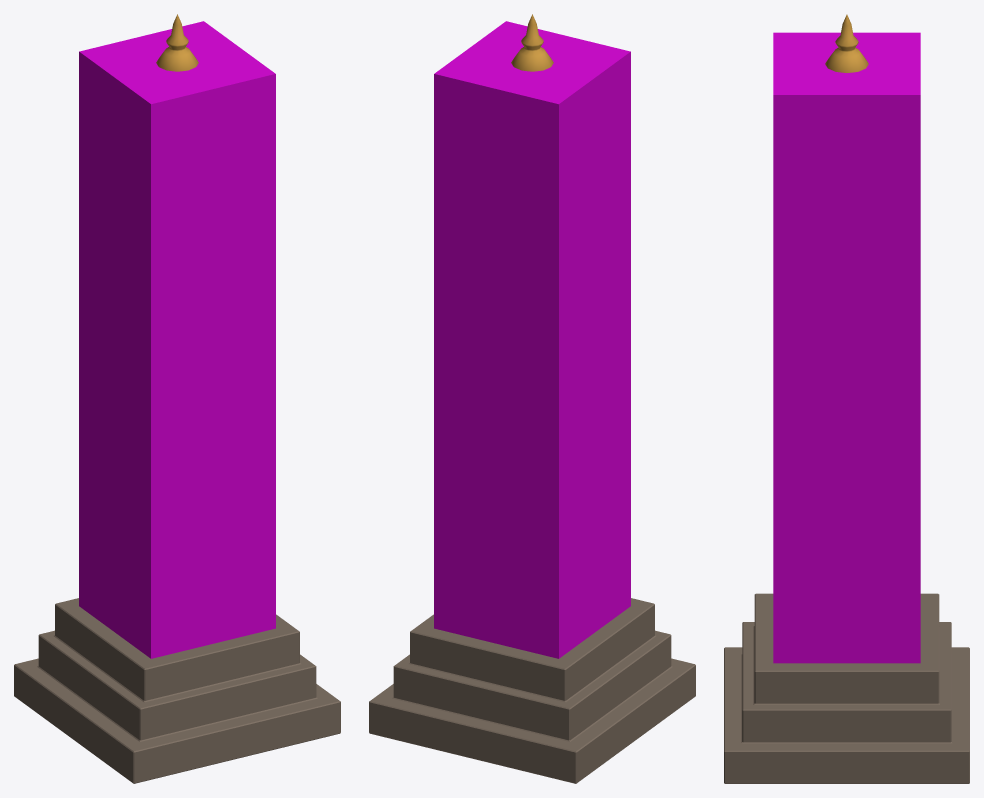
File: ENV_Lamp_Pillar_A.glb
The picture shows the model from 3 angles, left to right: view 1: azimuth 30°, elevation 25°; view 2: azimuth 150°, elevation 25°; view 3: azimuth 270°, elevation 25°; orthographic projection. The views are drawn at different scales.
Visible parts, largest first — view 1: COL_Base, ENV_Lamp_Pillar_A_Mesh; view 2: COL_Base, ENV_Lamp_Pillar_A_Mesh; view 3: COL_Base, ENV_Lamp_Pillar_A_Mesh.
Boxes of the visible parts, x1,y1,x2,y2 form: COL_Base: (79, 21, 275, 658); ENV_Lamp_Pillar_A_Mesh: (14, 14, 340, 783); COL_Base: (434, 21, 630, 658); ENV_Lamp_Pillar_A_Mesh: (369, 14, 695, 783); COL_Base: (773, 32, 920, 663); ENV_Lamp_Pillar_A_Mesh: (724, 14, 969, 783).
Size of the model in its own units: 2 by 6.45 by 2.
